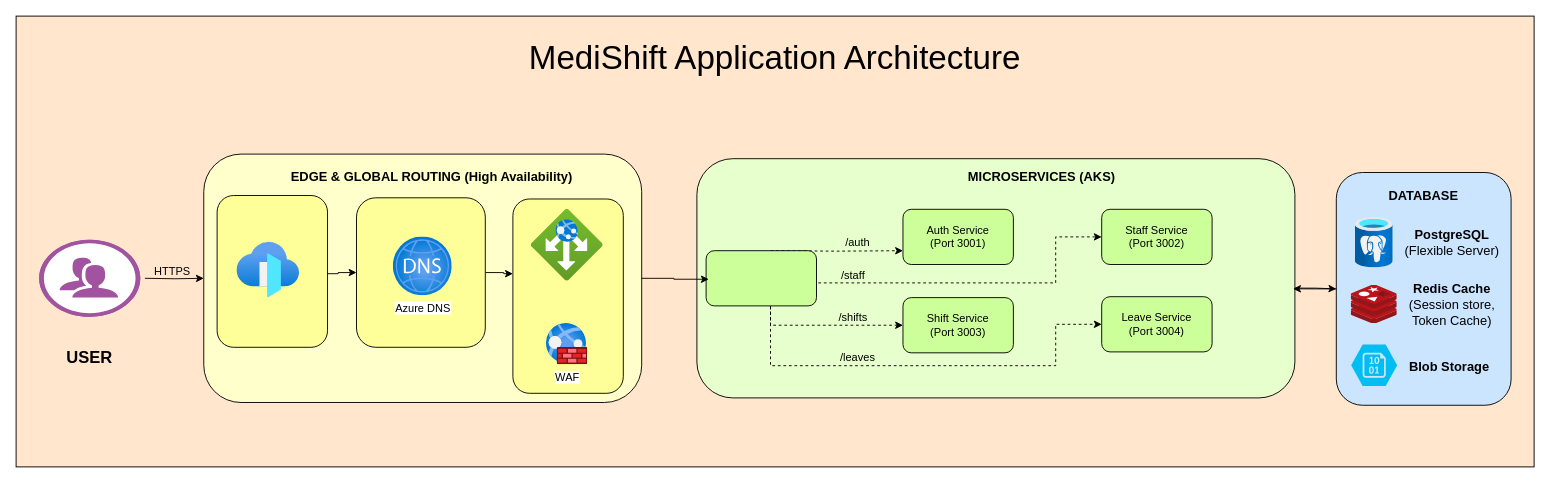
Some shapes in this 1550 by 483 pixel diagram are drawn without their labels. The box of each missing label's shape, as (x1, y1, x2, y2) in pixels:
Application Gateway: (531, 209, 603, 281)
Azure Front Door: (236, 242, 299, 297)
Frontend Service (Port 3000): (705, 250, 816, 306)
